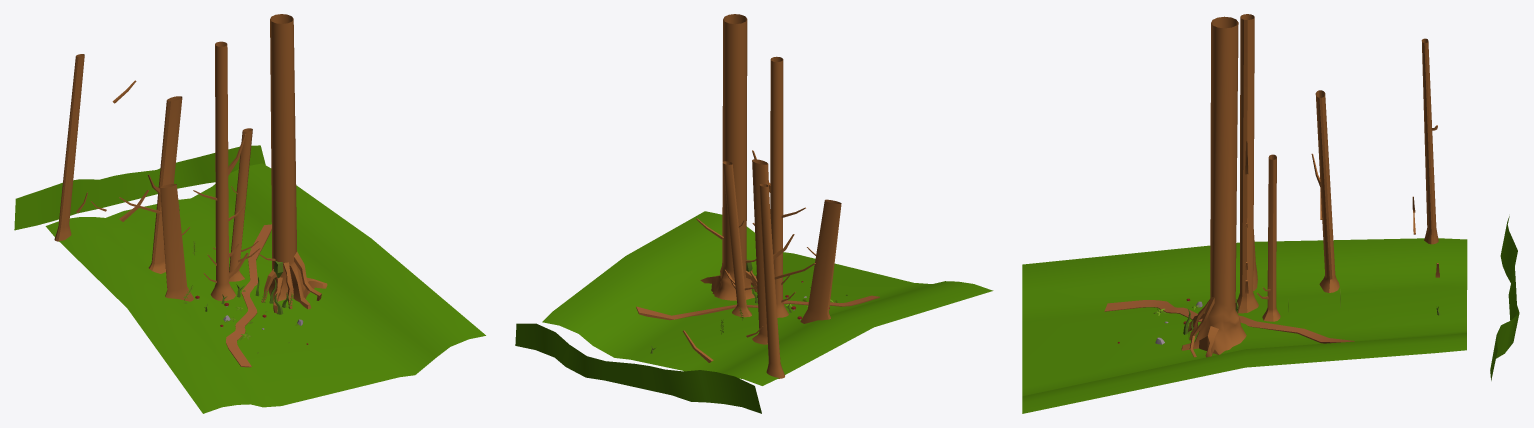
File: PT_Sce_05_a.FBX
3 renders of one model, left to right at view 1: azimuth 30°, elevation 25°; view 2: azimuth 150°, elevation 25°; view 3: azimuth 270°, elevation 25°, orthographic. The views are drawn at different scales.
Parts seen in each view (by area): view 1: PT_Sce_05_a; view 2: PT_Sce_05_a; view 3: PT_Sce_05_a.
Boxes of the visible parts, box(x1,y1,x2,y2) form: PT_Sce_05_a: box(14, 14, 485, 413); PT_Sce_05_a: box(515, 14, 993, 413); PT_Sce_05_a: box(1022, 14, 1519, 413).
Size of the model in its own units: 47315 by 48388 by 62145.
